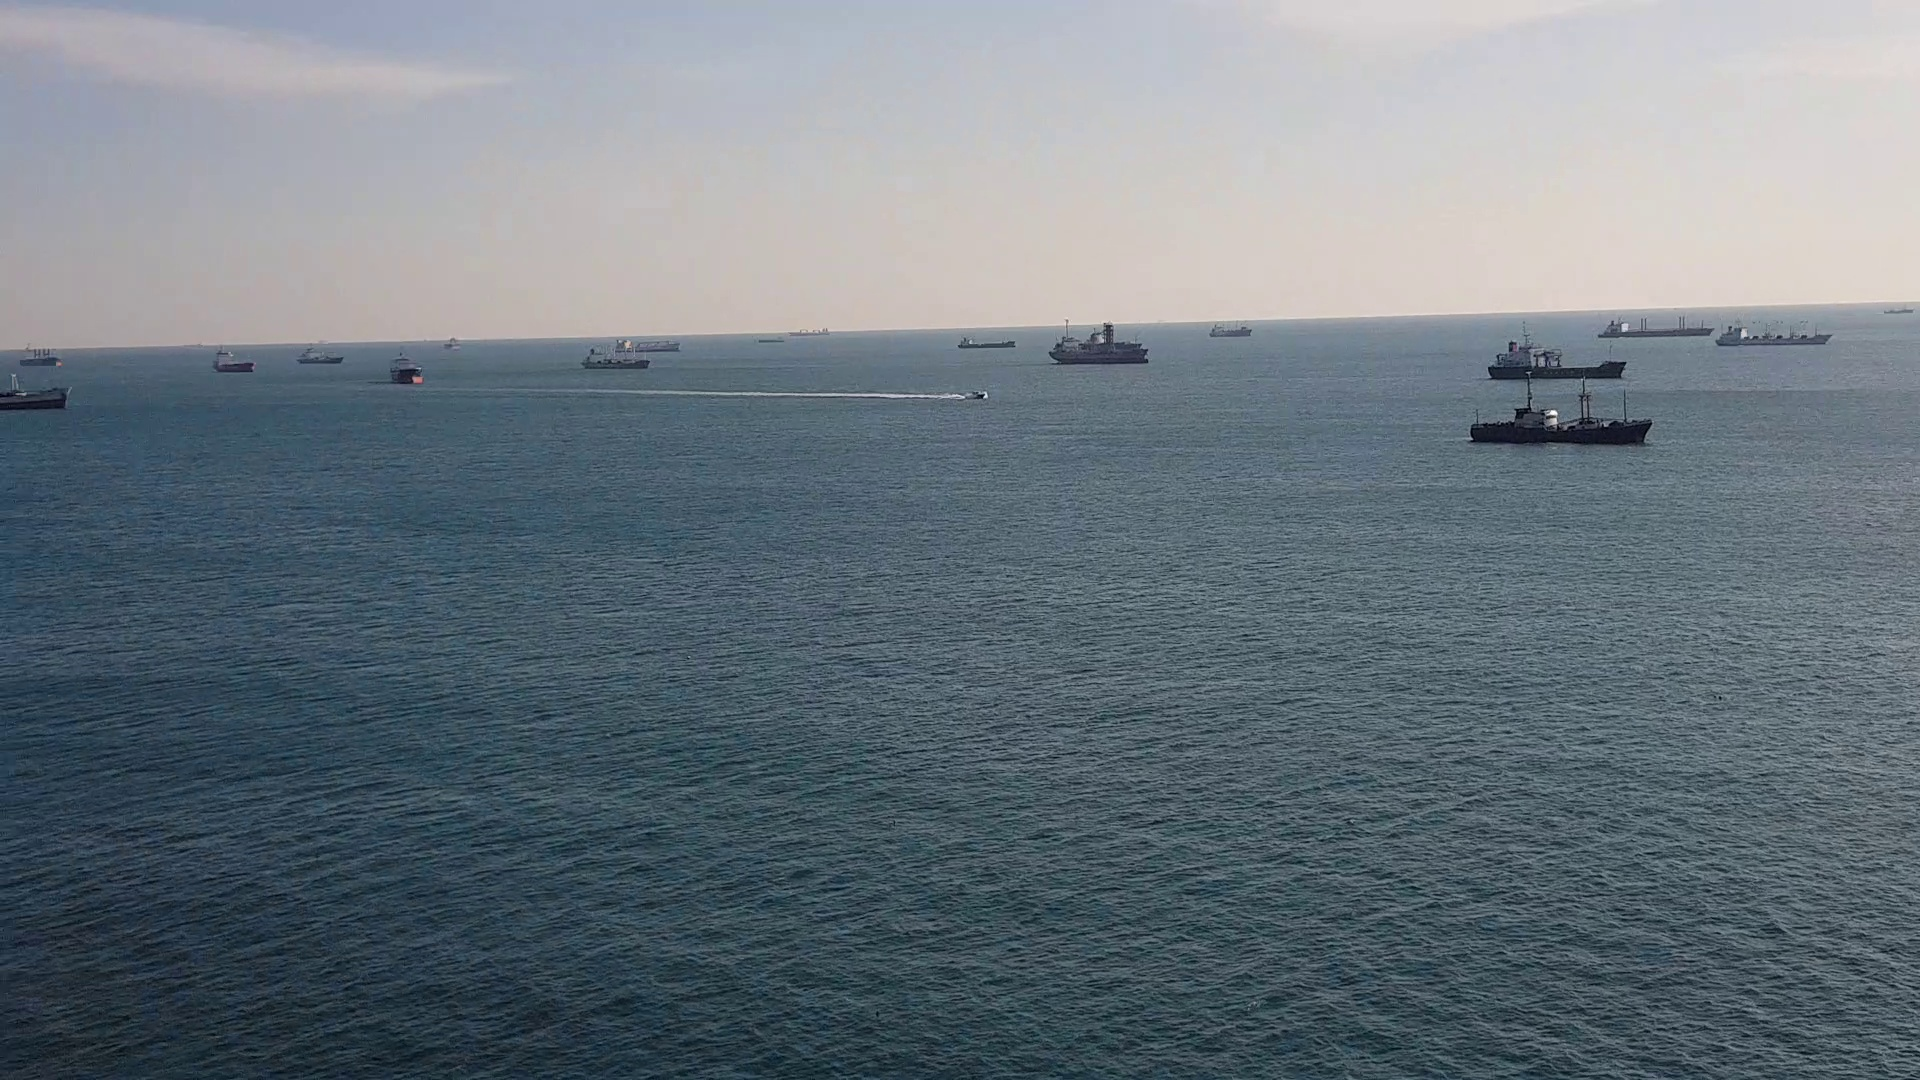Bulk_Carrier: (1696, 323, 1826, 348), (1040, 335, 1151, 363), (574, 349, 663, 367)
